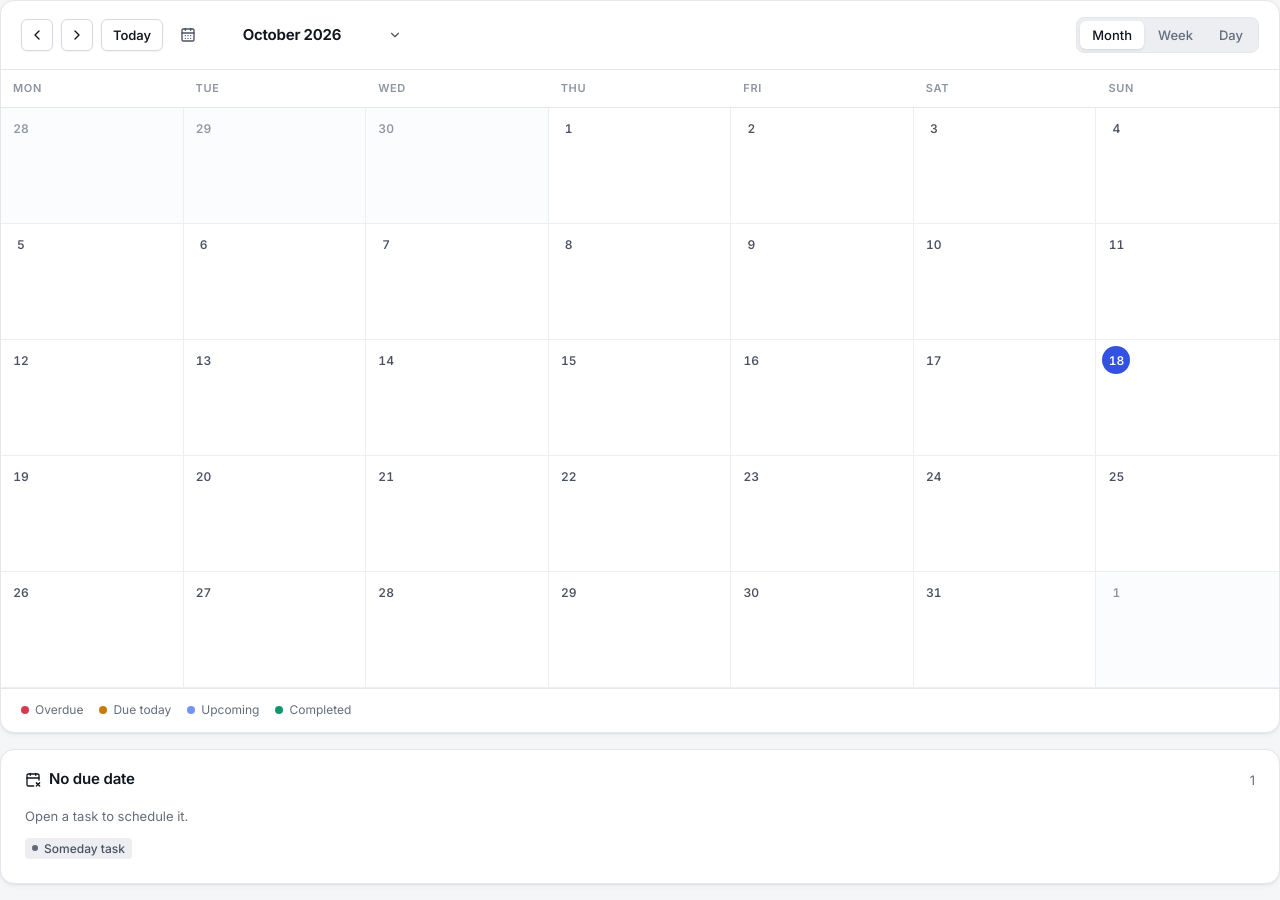
Test: TaskCalendar jump to date › moves the week view to the week containing an exact date and highlights it
Click the button "Week". click: point(1175, 35)
box: [1146,21,1205,49]
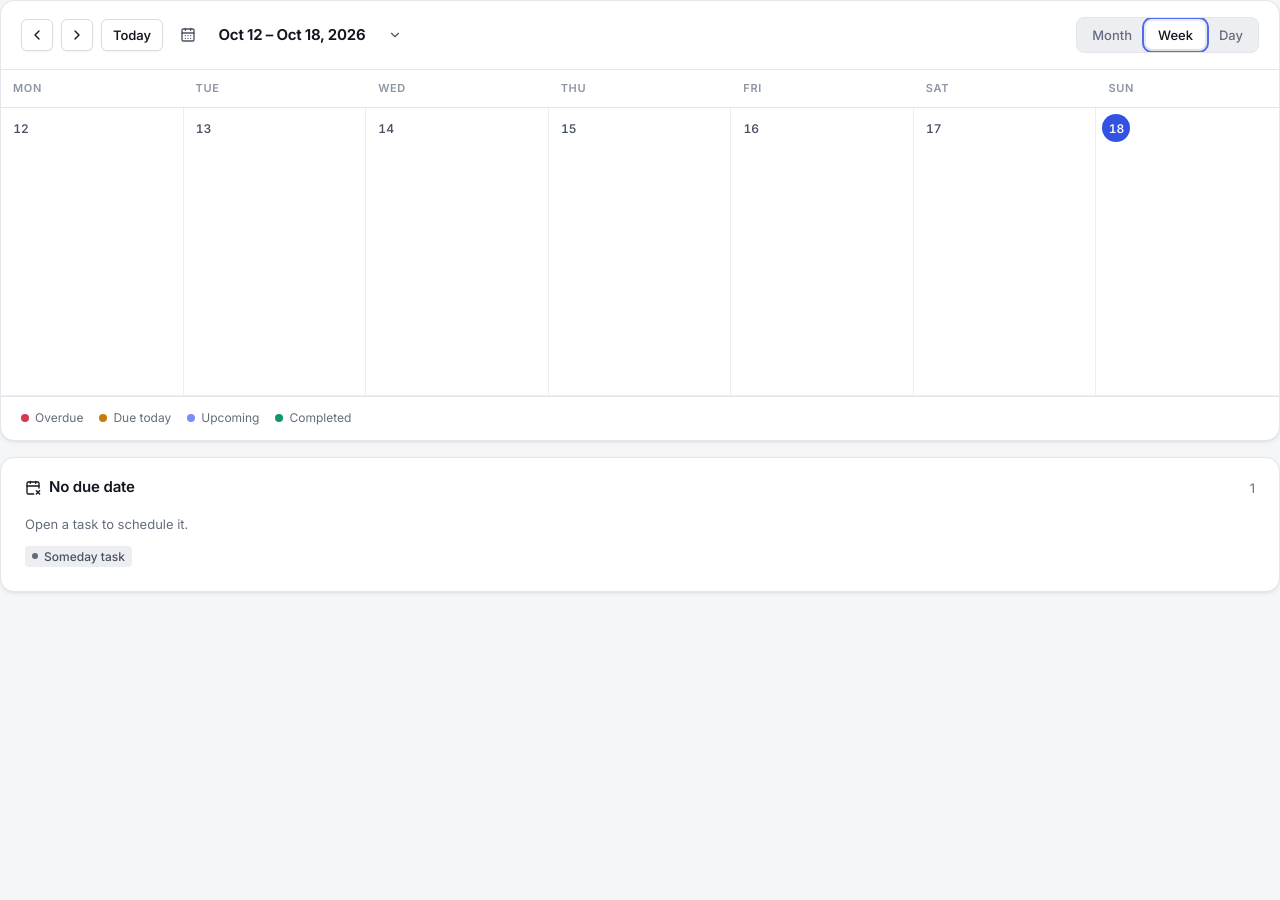
Click the button with aria-label "Jump to date". click: point(291, 35)
box: [171,18,411,52]
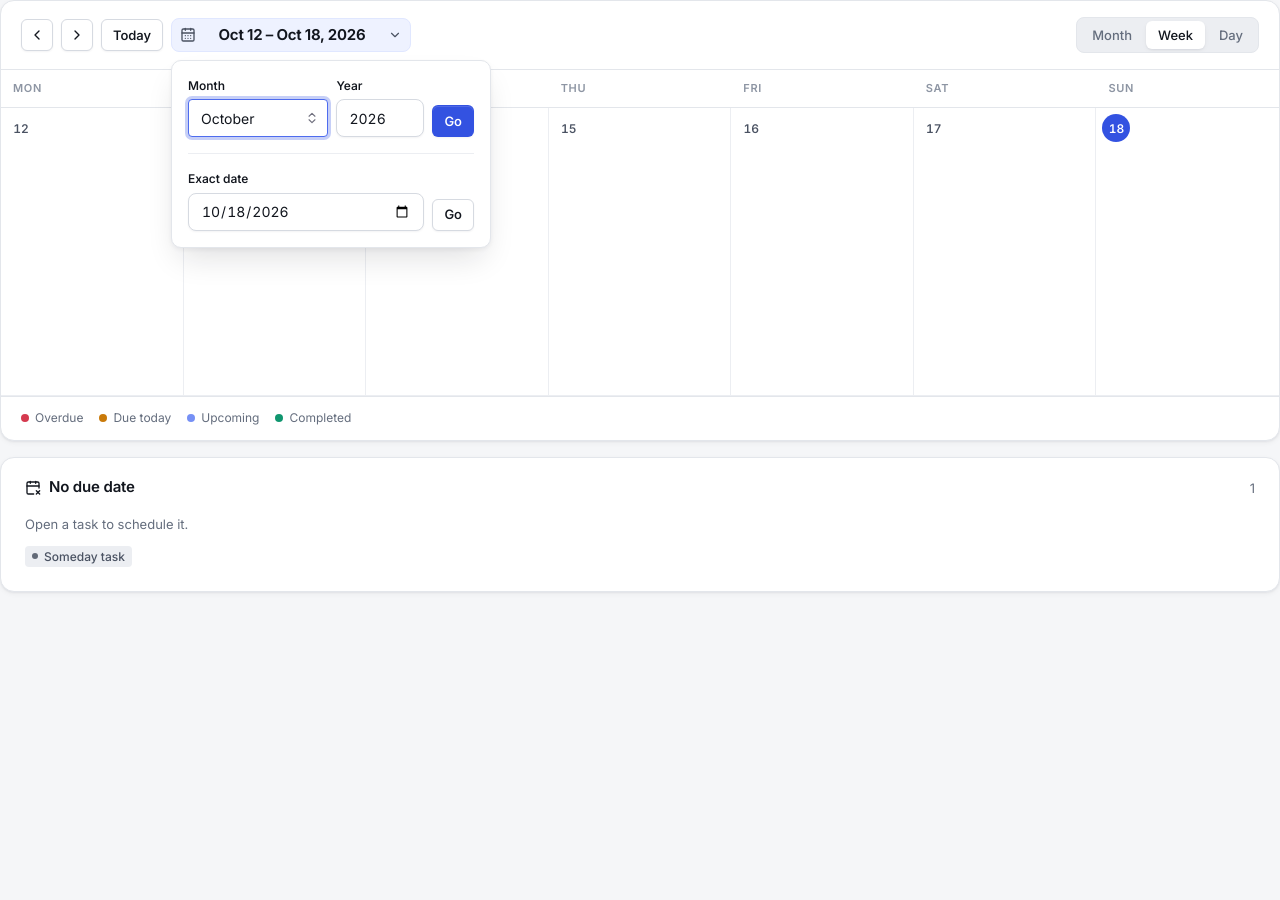
Type "2030-07-17" into the date field labelled "Exact date". click: point(306, 212)
box: [188,193,424,231]
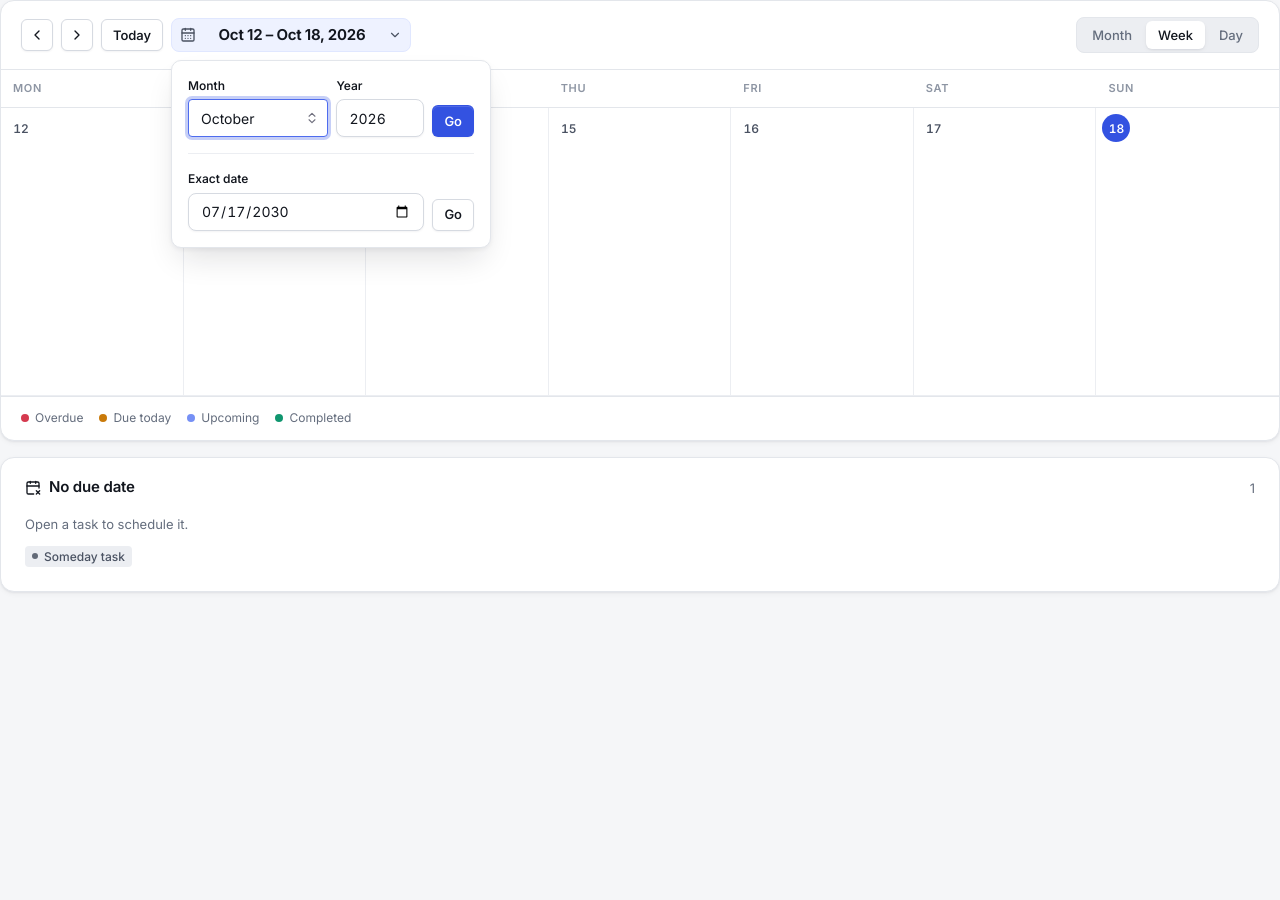
Click the button "Go" below "Exact date". click: point(453, 215)
box: [432,199,474,231]
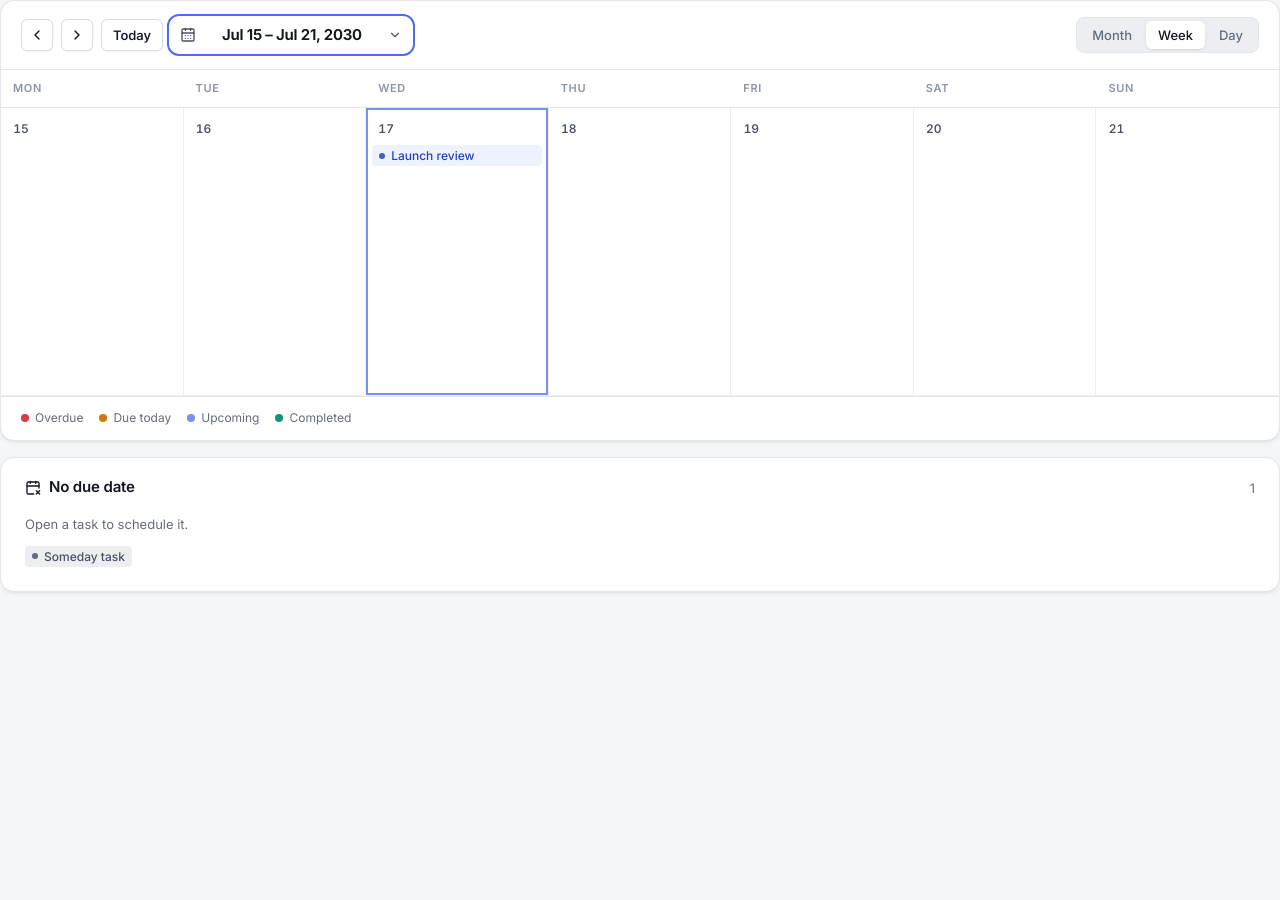
Expected: the button "Launch review" is shown, [372,145,542,166]
Expected: the element with class "is-selected" shows "17", [372,114,400,142]
